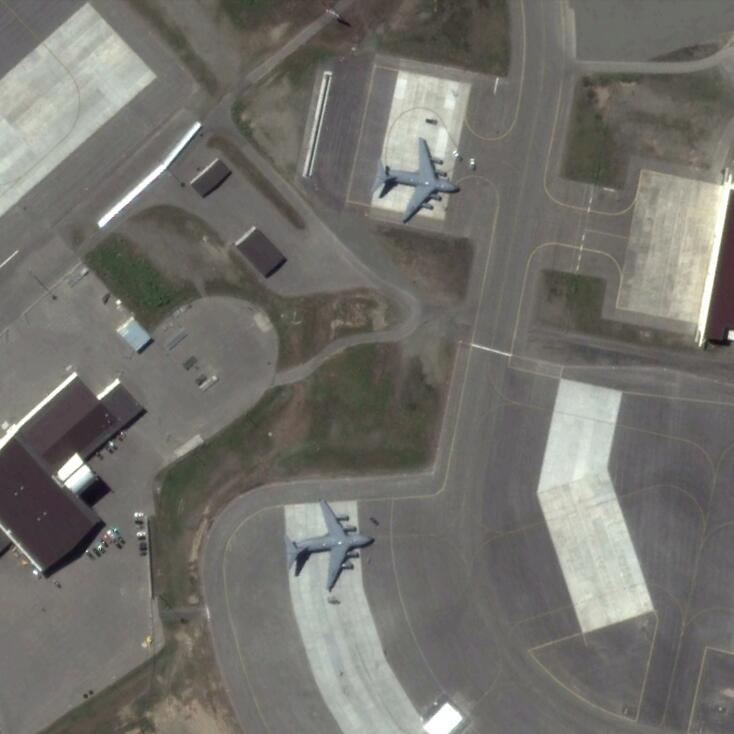A3: (284, 495, 375, 592), (372, 137, 461, 225)
